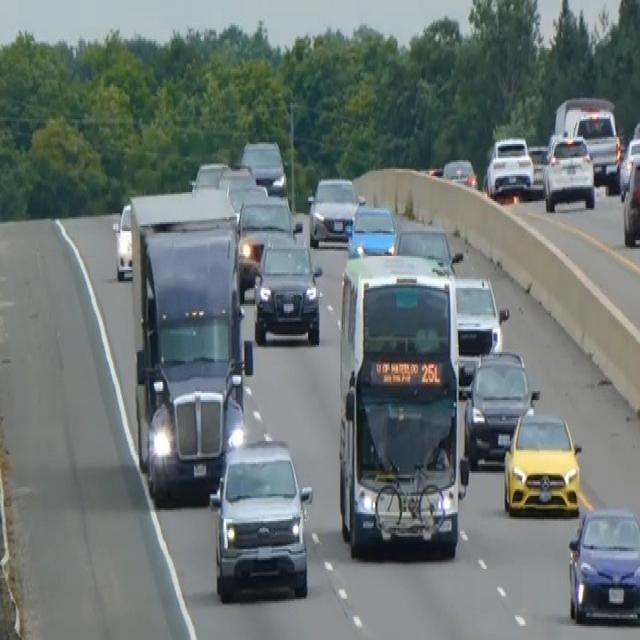bus: (336, 251, 468, 560)
car: (464, 347, 538, 468), (566, 503, 639, 624), (502, 407, 582, 517), (252, 233, 322, 347), (235, 192, 296, 297), (452, 272, 508, 356), (542, 132, 595, 212), (307, 174, 360, 246), (393, 219, 458, 272), (484, 133, 534, 199), (346, 201, 398, 258), (240, 137, 287, 194), (111, 199, 133, 281), (622, 155, 639, 247), (190, 158, 229, 190), (441, 154, 477, 188)
jeep: (208, 436, 314, 602)
lorry: (125, 187, 253, 501)
motorcycle: (370, 457, 457, 551)
truck: (553, 94, 621, 190)
